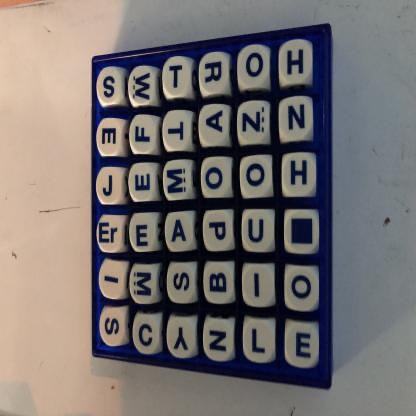a: (200, 107, 229, 146), (166, 214, 193, 252)
b: (203, 264, 234, 304)
c: (133, 314, 162, 353)
e: (285, 321, 321, 367), (129, 213, 158, 253), (129, 165, 156, 203), (97, 119, 123, 156)
er: (98, 215, 124, 253)
f: (130, 117, 156, 154)
h: (283, 153, 317, 198), (280, 40, 314, 82)
i: (242, 264, 276, 309), (100, 261, 127, 300)
j: (97, 166, 123, 204)
l: (244, 317, 277, 361)
m: (164, 160, 192, 200), (130, 266, 158, 304)
n: (280, 96, 314, 139), (205, 317, 237, 359)
o: (285, 266, 320, 311), (241, 157, 273, 199), (239, 46, 270, 86), (201, 158, 231, 199)
p: (203, 210, 234, 252)
r: (200, 52, 230, 93)
s: (167, 264, 195, 304), (100, 308, 128, 346), (98, 68, 122, 104)
t: (163, 113, 191, 150), (165, 59, 191, 95)
u: (241, 210, 276, 253)
w: (130, 68, 156, 104)
wild: (285, 211, 320, 256)
y: (167, 315, 199, 357)
z: (238, 102, 270, 143)
